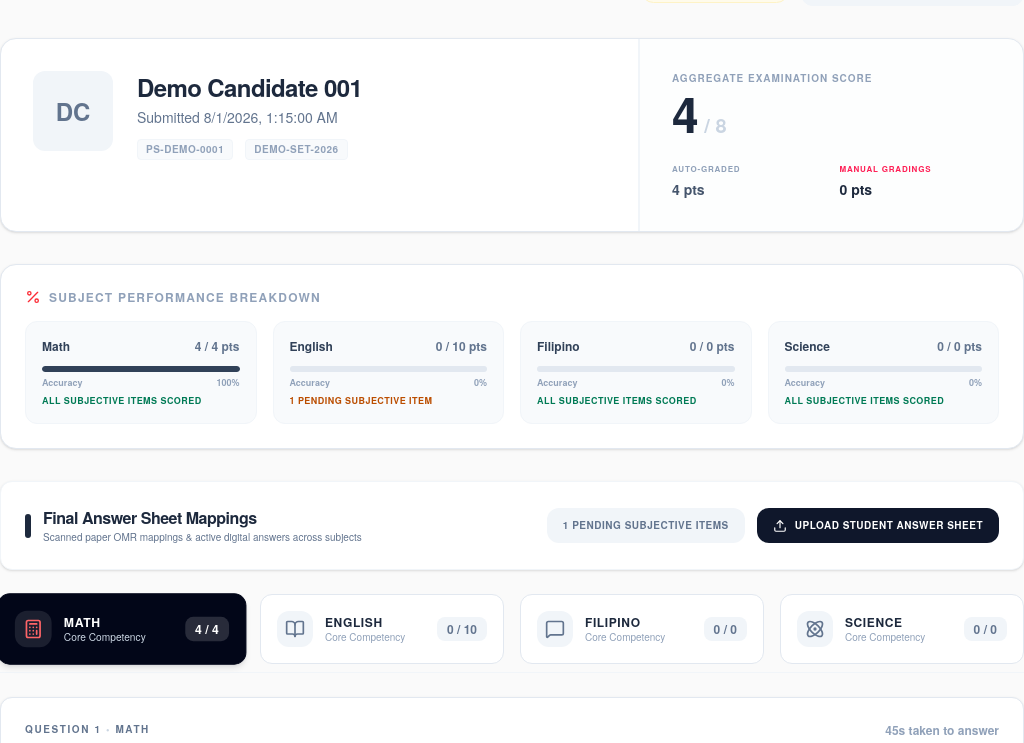
Scenario: ExamReviewDetail › shows persisted questions, responses, answer keys, and pending items by subject
Expected: the heading "Final Answer Sheet Mappings" is shown, left=43, top=506, right=257, bottom=529
Expected: the text "Scanned paper OMR mappings & active digital answers across subjects" is shown, left=43, top=530, right=362, bottom=545
Click the button "English Core Competency 0 / 10" at (382, 629), box left=260, top=594, right=504, bottom=664
(page scrolled)
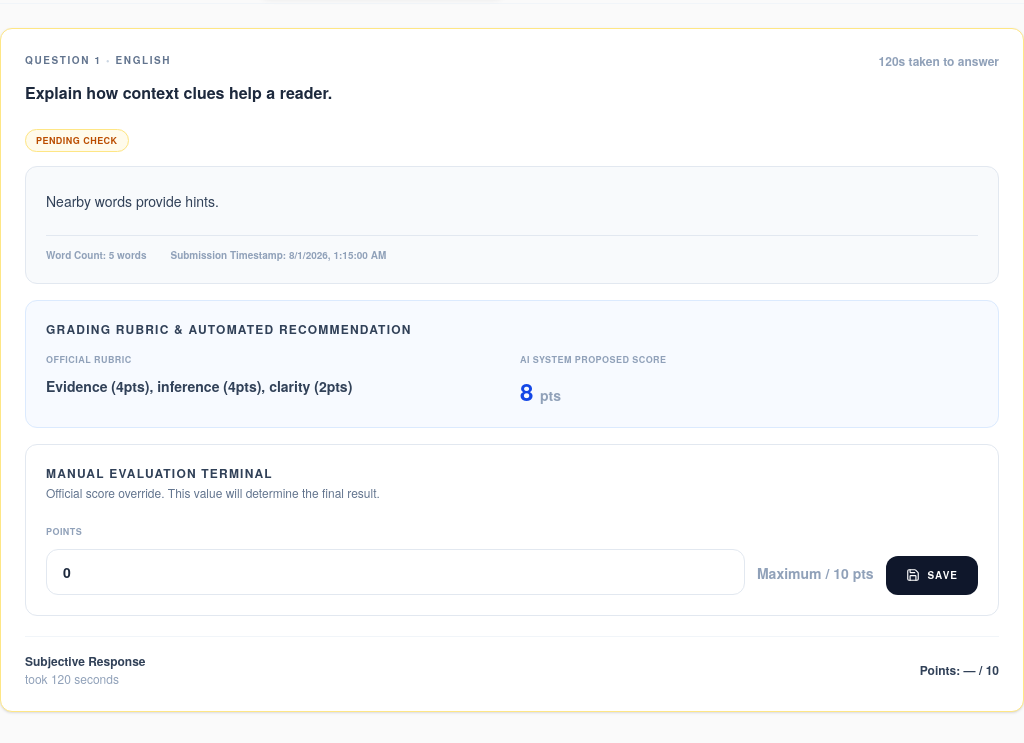
Result: the heading "Explain how context clues help a reader." is shown at left=25, top=80, right=332, bottom=106
Result: the text "Pending Check" is shown at left=25, top=129, right=128, bottom=152
Result: the text "Official Rubric" is shown at left=46, top=353, right=132, bottom=366
